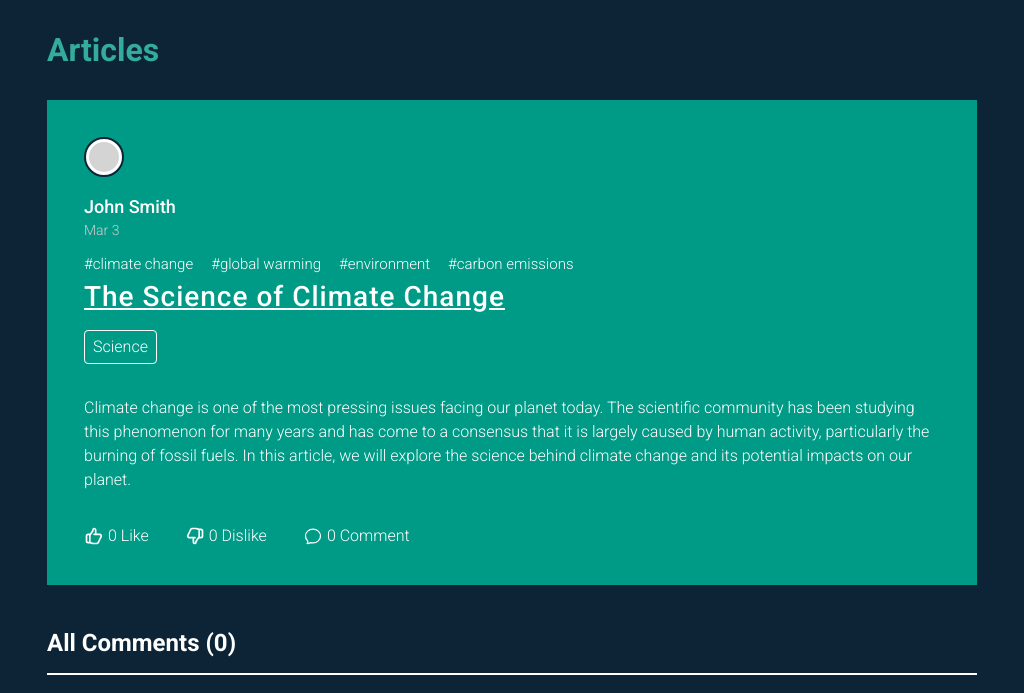
article › should reaction count change on like
The width and height of the screenshot is (1024, 693).
Click the button "0 Like" at (116, 536), box [84,524,149,548]
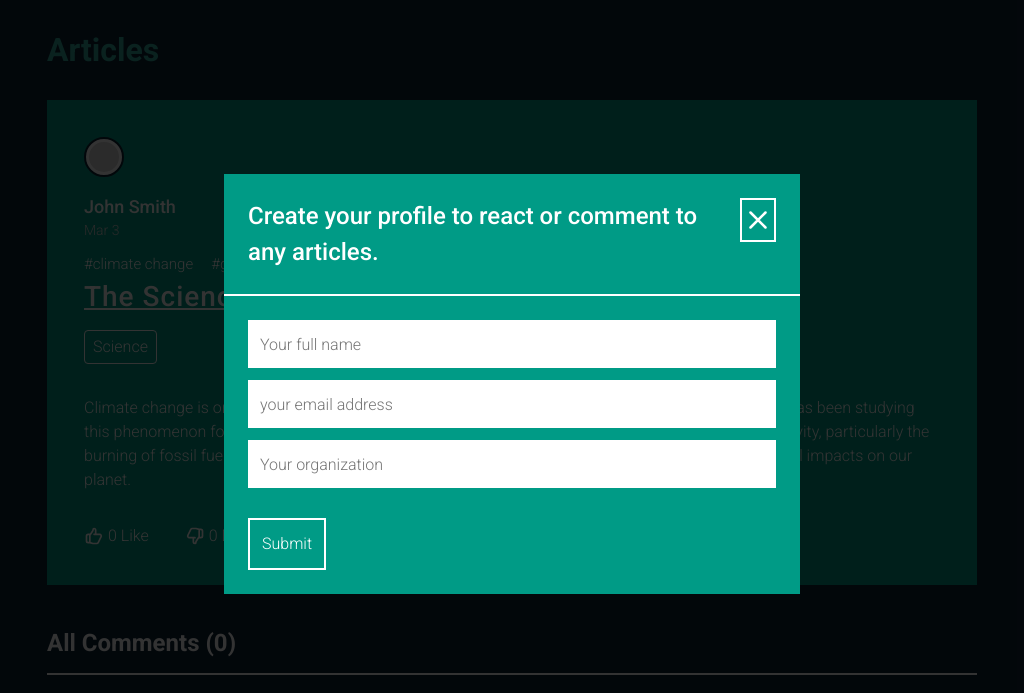
Type "John Doe" into the field with placeholder "Your full name" at (512, 344), box [248,320,776,368]
Type "johndoe@gmail.com" into the field with placeholder "your email address" at (512, 404), box [248,380,776,428]
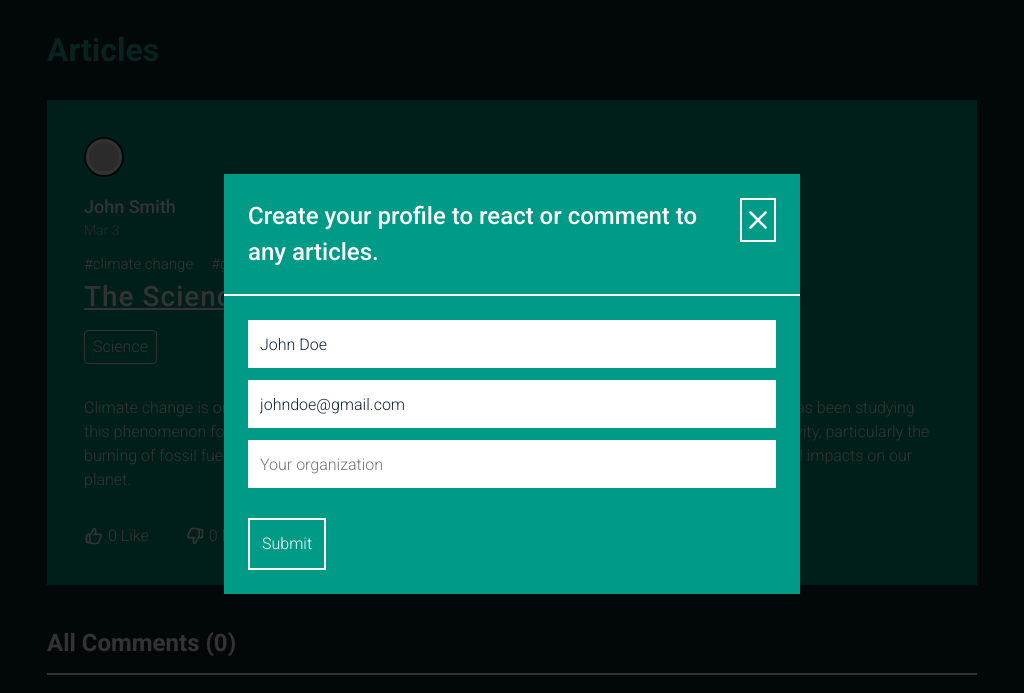
Type "ICS" into the field with placeholder "Your organization" at (512, 464), box [248,440,776,488]
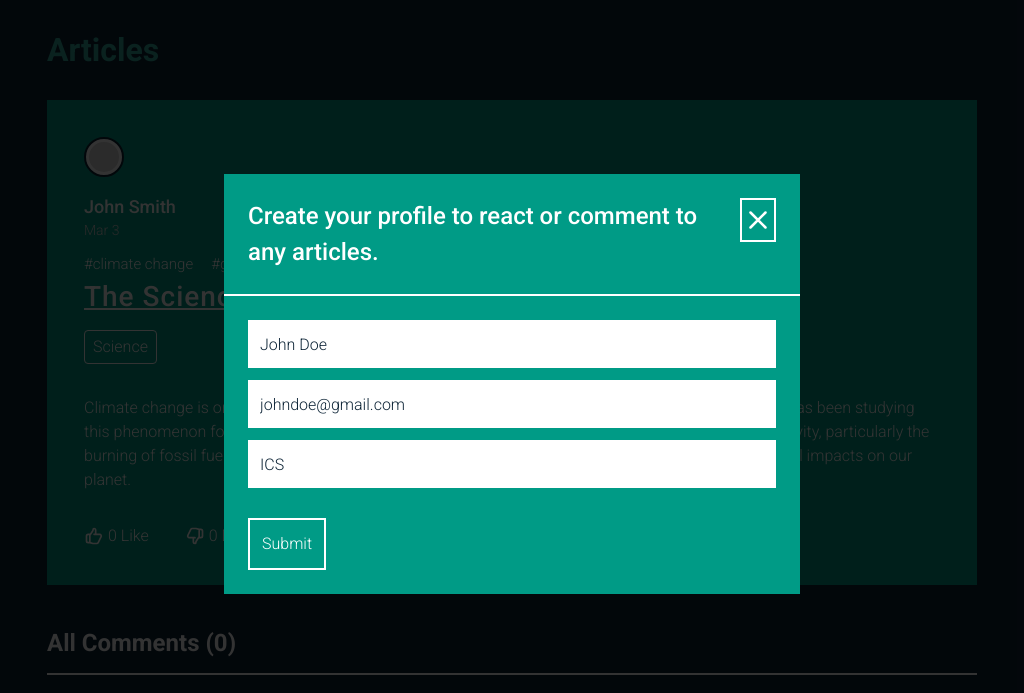
Submit the form with test id "user-form", box [248,320,776,570]
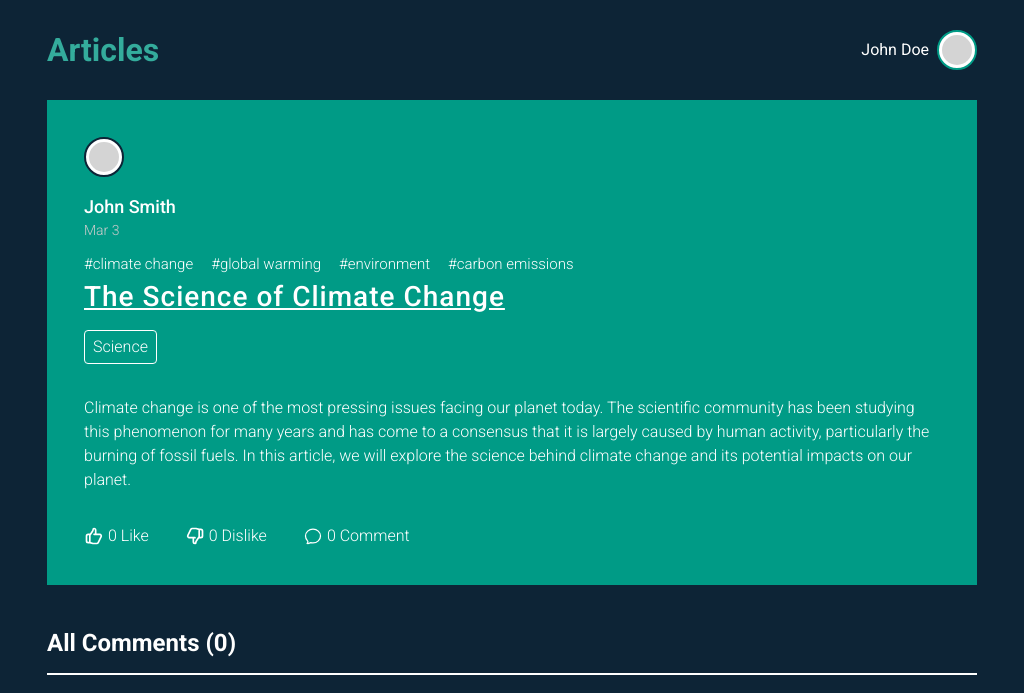
expect the form with test id "user-form" is gone: met
Click the button "0 Like" at (116, 536), box [84,524,149,548]
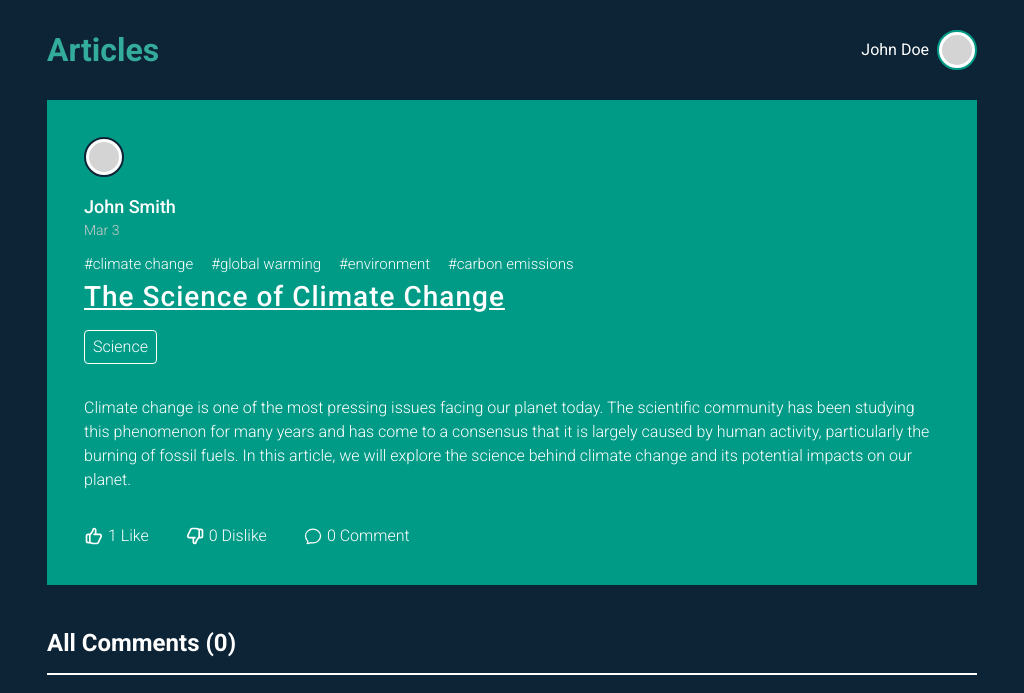
expect the text "0 Like" reads "1 Like": met, box [108,524,149,548]
Click the button "0 Like" at (116, 536), box [84,524,149,548]
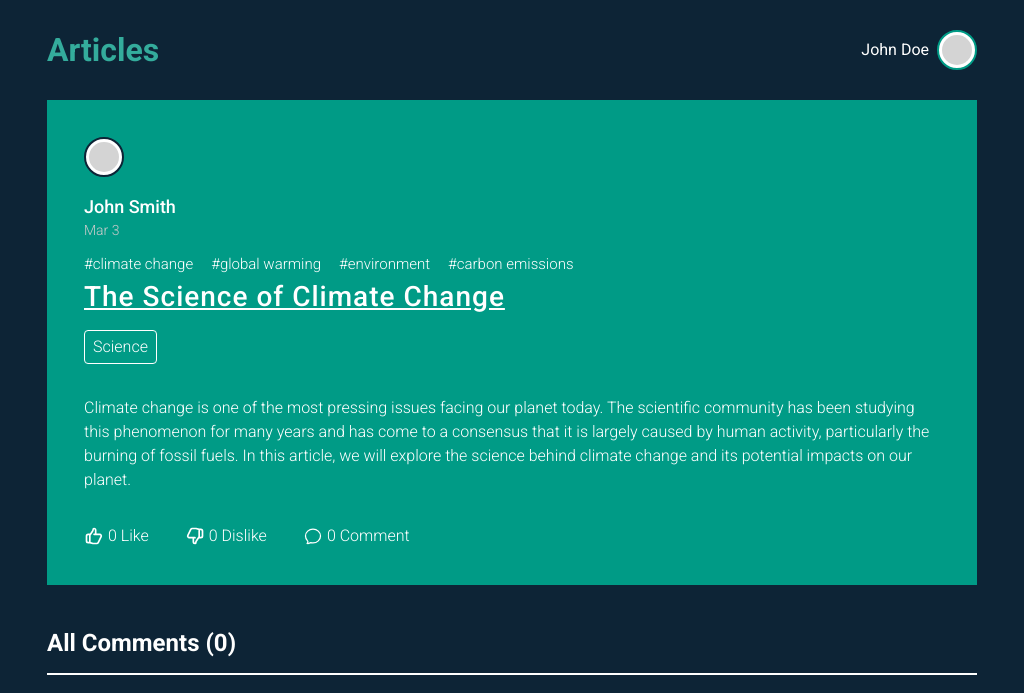
expect the text "0 Like" is shown: met, box [108,524,149,548]
